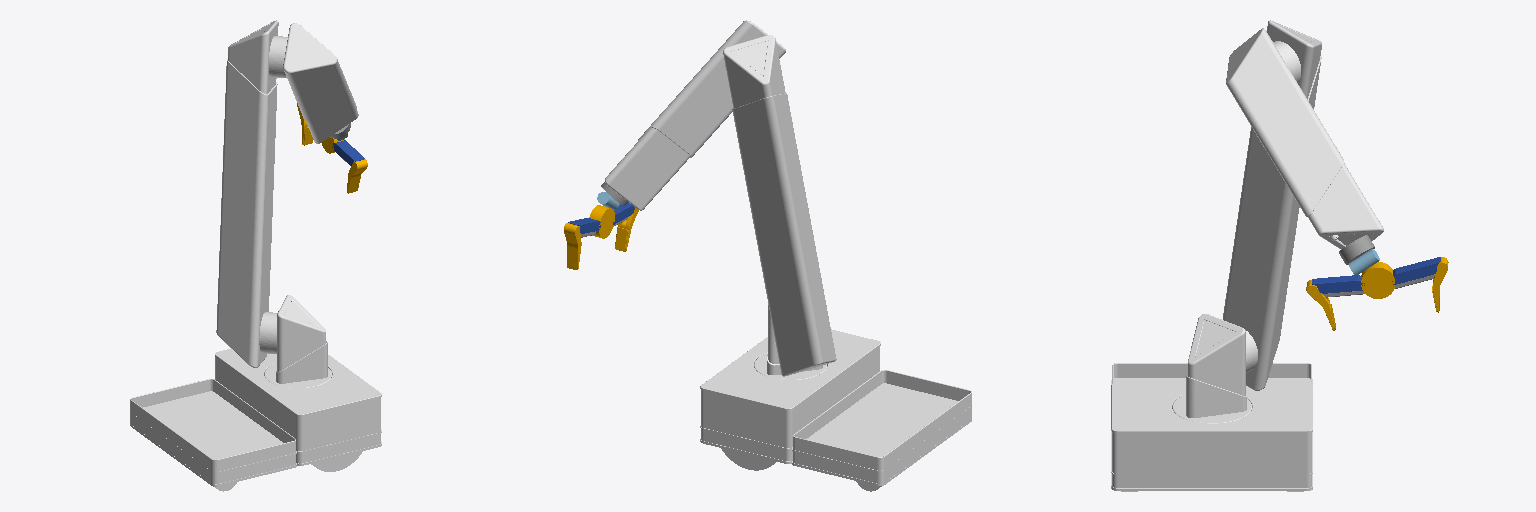
The robot description file, URDF, robot "onshape":
<robot name="onshape">
<link name="base_link">
<visual>
<origin xyz="0.095249999999999779288 0 -0.078012499999999984635" rpy="0 -0 1.570796326794896558" />
<geometry>
<mesh filename="base_link.stl"/>
</geometry>
<material name="base_link_material">
<color rgba="0.91764705882352937127 0.91764705882352937127 0.91764705882352937127 1.0"/>
</material>
</visual>
<collision>
<origin xyz="0.095249999999999779288 0 -0.078012499999999984635" rpy="0 -0 1.570796326794896558" />
<geometry>
<mesh filename="base_link.stl"/>
</geometry>
</collision>
<inertial>
<origin xyz="0.013314708714456002792 3.1309679248954579317e-13 -0.0038053294722519698245" rpy="0 0 0"/>
<mass value="99.999999999999985789" />
<inertia ixx="1.4279469683676146996" ixy="4.9898870129514783975e-12"  ixz="-0.19411269803900826902" iyy="1.6492465472325075204" iyz="-5.6218946315406817249e-13" izz="2.7361394480200238455" />
</inertial>
</link>

<link name="wheel">
<visual>
<origin xyz="0.0049999999999999766853 -0.075000000000000011102 0.12999999999999994893" rpy="-1.570796326794896558 -1.570796326794896558 0" />
<geometry>
<mesh filename="wheel.stl"/>
</geometry>
<material name="wheel_material">
<color rgba="0.91764705882352937127 0.91764705882352937127 0.91764705882352937127 1.0"/>
</material>
</visual>
<collision>
<origin xyz="0.0049999999999999766853 -0.075000000000000011102 0.12999999999999994893" rpy="-1.570796326794896558 -1.570796326794896558 0" />
<geometry>
<mesh filename="wheel.stl"/>
</geometry>
</collision>
<inertial>
<origin xyz="0 0 0" rpy="0 0 0"/>
<mass value="0" />
<inertia ixx="0" ixy="0"  ixz="0" iyy="0" iyz="0" izz="0" />
</inertial>
</link>

<joint name="right_wheel" type="continuous">
<origin xyz="0.10024999999999970046 -0.12999999999999845013 -0.0030124999999999735323" rpy="1.570796326794896558 -0 3.141592653589793116" />
<parent link="base_link" />
<child link="wheel" />
<axis xyz="0 0 1"/>
<limit effort="1" velocity="20" />
<joint_properties friction="0.0"/>
</joint>

<link name="wheel_2">
<visual>
<origin xyz="0.0049999999999999905631 -0.075000000000000011102 0.12999999999999997669" rpy="-1.570796326794896558 -1.570796326794896558 0" />
<geometry>
<mesh filename="wheel.stl"/>
</geometry>
<material name="wheel_material">
<color rgba="0.91764705882352937127 0.91764705882352937127 0.91764705882352937127 1.0"/>
</material>
</visual>
<collision>
<origin xyz="0.0049999999999999905631 -0.075000000000000011102 0.12999999999999997669" rpy="-1.570796326794896558 -1.570796326794896558 0" />
<geometry>
<mesh filename="wheel.stl"/>
</geometry>
</collision>
<inertial>
<origin xyz="0 0 0" rpy="0 0 0"/>
<mass value="0" />
<inertia ixx="0" ixy="0"  ixz="0" iyy="0" iyz="0" izz="0" />
</inertial>
</link>

<joint name="left_wheel" type="continuous">
<origin xyz="0.10024999999999978373 0.12999999999999975464 -0.0030125000000000012879" rpy="-1.570796326794896558 6.7549863752366748434e-34 -3.141592653589793116" />
<parent link="base_link" />
<child link="wheel_2" />
<axis xyz="0 0 1"/>
<limit effort="1" velocity="20" />
<joint_properties friction="0.0"/>
</joint>

<link name="boom_swivel">
<visual>
<origin xyz="-1.3877787807814456755e-17 -0.0050000000000000044409 0.15099999999999996758" rpy="3.141592653589793116 4.7019774032891500319e-38 -2.6164842409694724145e-43" />
<geometry>
<mesh filename="boom_swivel.stl"/>
</geometry>
<material name="boom_swivel_material">
<color rgba="0.91764705882352937127 0.91764705882352937127 0.91764705882352937127 1.0"/>
</material>
</visual>
<collision>
<origin xyz="-1.3877787807814456755e-17 -0.0050000000000000044409 0.15099999999999996758" rpy="3.141592653589793116 4.7019774032891500319e-38 -2.6164842409694724145e-43" />
<geometry>
<mesh filename="boom_swivel.stl"/>
</geometry>
</collision>
<inertial>
<origin xyz="0 0 0" rpy="0 0 0"/>
<mass value="0" />
<inertia ixx="0" ixy="0"  ixz="0" iyy="0" iyz="0" izz="0" />
</inertial>
</link>

<link name="boom_base">
<visual>
<origin xyz="-6.2450045135165055399e-17 -0.24249999999999993783 0.0099999999999999880651" rpy="-1.570796326794896558 -6.9858016346120152205e-17 0" />
<geometry>
<mesh filename="boom_base.stl"/>
</geometry>
<material name="boom_base_material">
<color rgba="0.91764705882352937127 0.91764705882352937127 0.91764705882352937127 1.0"/>
</material>
</visual>
<collision>
<origin xyz="-6.2450045135165055399e-17 -0.24249999999999993783 0.0099999999999999880651" rpy="-1.570796326794896558 -6.9858016346120152205e-17 0" />
<geometry>
<mesh filename="boom_base.stl"/>
</geometry>
</collision>
<inertial>
<origin xyz="0 0 0" rpy="0 0 0"/>
<mass value="0" />
<inertia ixx="0" ixy="0"  ixz="0" iyy="0" iyz="0" izz="0" />
</inertial>
</link>

<link name="boom_extension">
<visual>
<origin xyz="4.1633363423443370266e-17 -0.10464101615137760826 -0.56000000000000005329" rpy="1.2940658014313495664e-17 -0 3.9137490964325204328e-18" />
<geometry>
<mesh filename="boom_extension.stl"/>
</geometry>
<material name="boom_extension_material">
<color rgba="0.91764705882352937127 0.91764705882352937127 0.91764705882352937127 1.0"/>
</material>
</visual>
<collision>
<origin xyz="4.1633363423443370266e-17 -0.10464101615137760826 -0.56000000000000005329" rpy="1.2940658014313495664e-17 -0 3.9137490964325204328e-18" />
<geometry>
<mesh filename="boom_extension.stl"/>
</geometry>
</collision>
<inertial>
<origin xyz="0 0 0" rpy="0 0 0"/>
<mass value="0" />
<inertia ixx="0" ixy="0"  ixz="0" iyy="0" iyz="0" izz="0" />
</inertial>
</link>

<link name="forearm_base">
<visual>
<origin xyz="-1.1102230246251565404e-16 -0.82750000000000001332 0.0099999999999998215316" rpy="-1.570796326794896558 3.9679031311238156827e-17 5.5511151231257839347e-17" />
<geometry>
<mesh filename="forearm_base.stl"/>
</geometry>
<material name="forearm_base_material">
<color rgba="0.91764705882352937127 0.91764705882352937127 0.91764705882352937127 1.0"/>
</material>
</visual>
<collision>
<origin xyz="-1.1102230246251565404e-16 -0.82750000000000001332 0.0099999999999998215316" rpy="-1.570796326794896558 3.9679031311238156827e-17 5.5511151231257839347e-17" />
<geometry>
<mesh filename="forearm_base.stl"/>
</geometry>
</collision>
<inertial>
<origin xyz="0 0 0" rpy="0 0 0"/>
<mass value="0" />
<inertia ixx="0" ixy="0"  ixz="0" iyy="0" iyz="0" izz="0" />
</inertial>
</link>

<link name="forearm_extension">
<visual>
<origin xyz="-1.1102230246251565404e-16 -0.0046410161513774361719 0.80918584287042061298" rpy="-3.141592653589793116 -0 -9.7796772699959003765e-17" />
<geometry>
<mesh filename="forearm_extension.stl"/>
</geometry>
<material name="forearm_extension_material">
<color rgba="0.91764705882352937127 0.91764705882352937127 0.91764705882352937127 1.0"/>
</material>
</visual>
<collision>
<origin xyz="-1.1102230246251565404e-16 -0.0046410161513774361719 0.80918584287042061298" rpy="-3.141592653589793116 -0 -9.7796772699959003765e-17" />
<geometry>
<mesh filename="forearm_extension.stl"/>
</geometry>
</collision>
<inertial>
<origin xyz="0 0 0" rpy="0 0 0"/>
<mass value="0" />
<inertia ixx="0" ixy="0"  ixz="0" iyy="0" iyz="0" izz="0" />
</inertial>
</link>

<link name="wrist_roll">
<visual>
<origin xyz="0 -0.012881970000000020349 -0.12897358088045218771" rpy="0 -0 2.7755575615628913511e-17" />
<geometry>
<mesh filename="wrist_roll.stl"/>
</geometry>
<material name="wrist_roll_material">
<color rgba="0.64705882352941179736 0.64705882352941179736 0.64705882352941179736 1.0"/>
</material>
</visual>
<collision>
<origin xyz="0 -0.012881970000000020349 -0.12897358088045218771" rpy="0 -0 2.7755575615628913511e-17" />
<geometry>
<mesh filename="wrist_roll.stl"/>
</geometry>
</collision>
<inertial>
<origin xyz="0 0 0" rpy="0 0 0"/>
<mass value="0" />
<inertia ixx="0" ixy="0"  ixz="0" iyy="0" iyz="0" izz="0" />
</inertial>
</link>

<link name="wrist_pitch">
<visual>
<origin xyz="-0.012881969999999964838 -0.091499999999999886979 5.5511151231257827021e-17" rpy="-1.570796326794896558 -1.570796326794896558 0" />
<geometry>
<mesh filename="wrist_pitch.stl"/>
</geometry>
<material name="wrist_pitch_material">
<color rgba="0.61568627450980395466 0.81176470588235294379 0.92941176470588238168 1.0"/>
</material>
</visual>
<collision>
<origin xyz="-0.012881969999999964838 -0.091499999999999886979 5.5511151231257827021e-17" rpy="-1.570796326794896558 -1.570796326794896558 0" />
<geometry>
<mesh filename="wrist_pitch.stl"/>
</geometry>
</collision>
<inertial>
<origin xyz="0 0 0" rpy="0 0 0"/>
<mass value="0" />
<inertia ixx="0" ixy="0"  ixz="0" iyy="0" iyz="0" izz="0" />
</inertial>
</link>

<link name="wrist_yaw">
<visual>
<origin xyz="5.5511151231257827021e-17 0.04899999999999998801 -0.012881969999999964838" rpy="1.570796326794896558 8.6736173798840354721e-19 0" />
<geometry>
<mesh filename="wrist_yaw.stl"/>
</geometry>
<material name="wrist_yaw_material">
<color rgba="0.98039215686274505668 0.71372549019607844922 0.0039215686274509803377 1.0"/>
</material>
</visual>
<collision>
<origin xyz="5.5511151231257827021e-17 0.04899999999999998801 -0.012881969999999964838" rpy="1.570796326794896558 8.6736173798840354721e-19 0" />
<geometry>
<mesh filename="wrist_yaw.stl"/>
</geometry>
</collision>
<inertial>
<origin xyz="0 0 0" rpy="0 0 0"/>
<mass value="0" />
<inertia ixx="0" ixy="0"  ixz="0" iyy="0" iyz="0" izz="0" />
</inertial>
</link>

<link name="outer_link">
<visual>
<origin xyz="-0.030169798817259230184 0.048999999999999932498 -0.012881967433526597677" rpy="1.570796326794896558 -6.9388939039072283776e-18 -1.1102230246251565404e-16" />
<geometry>
<mesh filename="outer_link.stl"/>
</geometry>
<material name="outer_link_material">
<color rgba="0.2313725490196078538 0.38039215686274507888 0.7058823529411765163 1.0"/>
</material>
</visual>
<collision>
<origin xyz="-0.030169798817259230184 0.048999999999999932498 -0.012881967433526597677" rpy="1.570796326794896558 -6.9388939039072283776e-18 -1.1102230246251565404e-16" />
<geometry>
<mesh filename="outer_link.stl"/>
</geometry>
</collision>
<inertial>
<origin xyz="0 0 0" rpy="0 0 0"/>
<mass value="0" />
<inertia ixx="0" ixy="0"  ixz="0" iyy="0" iyz="0" izz="0" />
</inertial>
</link>

<link name="finger">
<visual>
<origin xyz="-0.053000921136366230257 -0.034264499665207948098 -0.012881967433409136081" rpy="1.570796326794896558 8.6736173798840354721e-19 0" />
<geometry>
<mesh filename="finger.stl"/>
</geometry>
<material name="finger_material">
<color rgba="0.98039215686274505668 0.71372549019607844922 0.0039215686274509803377 1.0"/>
</material>
</visual>
<collision>
<origin xyz="-0.053000921136366230257 -0.034264499665207948098 -0.012881967433409136081" rpy="1.570796326794896558 8.6736173798840354721e-19 0" />
<geometry>
<mesh filename="finger.stl"/>
</geometry>
</collision>
<inertial>
<origin xyz="0 0 0" rpy="0 0 0"/>
<mass value="0" />
<inertia ixx="0" ixy="0"  ixz="0" iyy="0" iyz="0" izz="0" />
</inertial>
</link>

<link name="closing_grip_R3_1">
<inertial>
<origin xyz="0 0 0" rpy="0 0 0" />
<mass value="1e-9" />
<inertia ixx="0" ixy="0" ixz="0" iyy="0" iyz="0" izz="0" />
</inertial>
</link>
<joint name="closing_grip_R3_1_frame" type="fixed">
<origin xyz="-0.014444698587853799232 0.016389284560931083323 -4.3687276018999909866e-14" rpy="0 8.6736173798840354721e-19 0" />
<parent link="finger" />
<child link="closing_grip_R3_1" />
<axis xyz="0 0 0"/>
</joint>

<joint name="grip_R2_passive" type="revolute">
<origin xyz="0.022831122319107222118 0.083264499665207880597 -1.1746159600534156198e-13" rpy="-8.4654505627668018574e-16 -1.2490009027032937124e-16 1.3962634015954524802" />
<parent link="outer_link" />
<child link="finger" />
<axis xyz="0 0 1"/>
<limit effort="1" velocity="20" />
<joint_properties friction="0.0"/>
</joint>

<joint name="grip_R" type="revolute">
<origin xyz="0.030169798817258786094 -2.2759572004815709079e-15 -2.5664732561381242704e-09" rpy="3.7470027081098766999e-16 2.8310687127941334009e-15 -1.3962634015954538125" />
<parent link="wrist_yaw" />
<child link="outer_link" />
<axis xyz="0 0 1"/>
<limit effort="1" velocity="20" lower="-1.3962634015954635824" upper="0.27925268031909272759"/>
<joint_properties friction="0.0"/>
</joint>

<link name="inner_link">
<visual>
<origin xyz="-0.01572510022940537544 0.032610715439068904686 -0.012881967433365337783" rpy="1.570796326794896558 -6.9388939039072299184e-18 -5.5511151231257839347e-17" />
<geometry>
<mesh filename="inner_link.stl"/>
</geometry>
<material name="inner_link_material">
<color rgba="0.64705882352941179736 0.64705882352941179736 0.64705882352941179736 1.0"/>
</material>
</visual>
<collision>
<origin xyz="-0.01572510022940537544 0.032610715439068904686 -0.012881967433365337783" rpy="1.570796326794896558 -6.9388939039072299184e-18 -5.5511151231257839347e-17" />
<geometry>
<mesh filename="inner_link.stl"/>
</geometry>
</collision>
<inertial>
<origin xyz="0 0 0" rpy="0 0 0"/>
<mass value="0" />
<inertia ixx="0" ixy="0"  ixz="0" iyy="0" iyz="0" izz="0" />
</inertial>
</link>

<link name="closing_grip_R3_2">
<inertial>
<origin xyz="0 0 0" rpy="0 0 0" />
<mass value="1e-9" />
<inertia ixx="0" ixy="0" ixz="0" iyy="0" iyz="0" izz="0" />
</inertial>
</link>
<joint name="closing_grip_R3_2_frame" type="fixed">
<origin xyz="0.022831122319107000074 0.083264499665207991619 5.5511151231257827021e-17" rpy="-1.7347234759768070944e-18 -6.9388939039072299184e-18 -5.5511151231257839347e-17" />
<parent link="inner_link" />
<child link="closing_grip_R3_2" />
<axis xyz="0 0 0"/>
</joint>

<joint name="grip_R1_passive" type="revolute">
<origin xyz="0.015725100229405708507 0.016389284560931083323 -2.5666346270547535369e-09" rpy="5.8980598183211194691e-16 1.8318679906315075028e-15 -1.3962634015954866751" />
<parent link="wrist_yaw" />
<child link="inner_link" />
<axis xyz="0 0 1"/>
<limit effort="1" velocity="20" />
<joint_properties friction="0.0"/>
</joint>

<link name="outer_link_2">
<visual>
<origin xyz="-0.030169798817259119161 0.048999999999999932498 -0.012881967433526597677" rpy="1.570796326794896558 -6.9388939039072299184e-18 -1.7347234759768074796e-18" />
<geometry>
<mesh filename="outer_link.stl"/>
</geometry>
<material name="outer_link_material">
<color rgba="0.2313725490196078538 0.38039215686274507888 0.7058823529411765163 1.0"/>
</material>
</visual>
<collision>
<origin xyz="-0.030169798817259119161 0.048999999999999932498 -0.012881967433526597677" rpy="1.570796326794896558 -6.9388939039072299184e-18 -1.7347234759768074796e-18" />
<geometry>
<mesh filename="outer_link.stl"/>
</geometry>
</collision>
<inertial>
<origin xyz="0 0 0" rpy="0 0 0"/>
<mass value="0" />
<inertia ixx="0" ixy="0"  ixz="0" iyy="0" iyz="0" izz="0" />
</inertial>
</link>

<link name="finger_2">
<visual>
<origin xyz="-0.053000921136366119235 -0.034264499665208003609 -0.012881967433409136081" rpy="1.570796326794896558 -0 2.7755575615628919674e-17" />
<geometry>
<mesh filename="finger.stl"/>
</geometry>
<material name="finger_material">
<color rgba="0.98039215686274505668 0.71372549019607844922 0.0039215686274509803377 1.0"/>
</material>
</visual>
<collision>
<origin xyz="-0.053000921136366119235 -0.034264499665208003609 -0.012881967433409136081" rpy="1.570796326794896558 -0 2.7755575615628919674e-17" />
<geometry>
<mesh filename="finger.stl"/>
</geometry>
</collision>
<inertial>
<origin xyz="0 0 0" rpy="0 0 0"/>
<mass value="0" />
<inertia ixx="0" ixy="0"  ixz="0" iyy="0" iyz="0" izz="0" />
</inertial>
</link>

<link name="closing_grip_L3_1">
<inertial>
<origin xyz="0 0 0" rpy="0 0 0" />
<mass value="1e-9" />
<inertia ixx="0" ixy="0" ixz="0" iyy="0" iyz="0" izz="0" />
</inertial>
</link>
<joint name="closing_grip_L3_1_frame" type="fixed">
<origin xyz="-0.014444698587853743721 0.016389284560931083323 -4.3742787170231167693e-14" rpy="0 -0 2.7755575615628919674e-17" />
<parent link="finger_2" />
<child link="closing_grip_L3_1" />
<axis xyz="0 0 0"/>
</joint>

<joint name="grip_L2_passive" type="revolute">
<origin xyz="0.022831122319107111096 0.083264499665207880597 -1.1762812945903533546e-13" rpy="1.2642664692918989037e-14 1.1812599509663692412e-14 1.3962634014234529545" />
<parent link="outer_link_2" />
<child link="finger_2" />
<axis xyz="0 0 1"/>
<limit effort="1" velocity="20" />
<joint_properties friction="0.0"/>
</joint>

<joint name="grip_L" type="revolute">
<origin xyz="-0.03016979881725906365 -1.1102230246251565404e-16 -2.5664734781827291954e-09" rpy="3.141592653589793116 1.9775847626136038694e-15 -1.7453292519943381933" />
<parent link="wrist_yaw" />
<child link="outer_link_2" />
<axis xyz="0 0 1"/>
<limit effort="1" velocity="20" />
<joint_properties friction="0.0"/>
</joint>

<link name="inner_link_2">
<visual>
<origin xyz="-0.015725100229405430952 0.032610715439068904686 -0.012881967433365393294" rpy="1.570796326794896558 -0 0" />
<geometry>
<mesh filename="inner_link.stl"/>
</geometry>
<material name="inner_link_material">
<color rgba="0.64705882352941179736 0.64705882352941179736 0.64705882352941179736 1.0"/>
</material>
</visual>
<collision>
<origin xyz="-0.015725100229405430952 0.032610715439068904686 -0.012881967433365393294" rpy="1.570796326794896558 -0 0" />
<geometry>
<mesh filename="inner_link.stl"/>
</geometry>
</collision>
<inertial>
<origin xyz="0 0 0" rpy="0 0 0"/>
<mass value="0" />
<inertia ixx="0" ixy="0"  ixz="0" iyy="0" iyz="0" izz="0" />
</inertial>
</link>

<link name="closing_grip_L3_2">
<inertial>
<origin xyz="0 0 0" rpy="0 0 0" />
<mass value="1e-9" />
<inertia ixx="0" ixy="0" ixz="0" iyy="0" iyz="0" izz="0" />
</inertial>
</link>
<joint name="closing_grip_L3_2_frame" type="fixed">
<origin xyz="0.022831122319107000074 0.083264499665207991619 -5.5511151231257827021e-17" rpy="3.252606517456513302e-19 -0 0" />
<parent link="inner_link_2" />
<child link="closing_grip_L3_2" />
<axis xyz="0 0 0"/>
</joint>

<joint name="grip_L1" type="revolute">
<origin xyz="-0.015725100229405208907 0.016389284560930750256 -2.566635515233173237e-09" rpy="3.1415926535897926719 1.3461454173580210407e-15 -1.7453292521289851535" />
<parent link="wrist_yaw" />
<child link="inner_link_2" />
<axis xyz="0 0 1"/>
<limit effort="1" velocity="20" />
<joint_properties friction="0.0"/>
</joint>

<joint name="wrist_yaw" type="revolute">
<origin xyz="-2.7755575615628913511e-16 -0.042499999999999926725 2.2204460492503130808e-16" rpy="1.57079632679489678 -1.147343505629052185 1.5707963267948978903" />
<parent link="wrist_pitch" />
<child link="wrist_yaw" />
<axis xyz="0 0 1"/>
<limit effort="1" velocity="20" lower="-1.570796326794896558" upper="1.570796326794896558"/>
<joint_properties friction="0.0"/>
</joint>

<joint name="wrist_pitch" type="revolute">
<origin xyz="5.5511151231257827021e-17 -4.9960036108132044319e-16 -0.037473580880452536657" rpy="1.57079632679489678 0.45468064465315399802 1.5707963267948927832" />
<parent link="wrist_roll" />
<child link="wrist_pitch" />
<axis xyz="0 0 1"/>
<limit effort="1" velocity="20" lower="-1.570796326794896558" upper="1.570796326794896558"/>
<joint_properties friction="0.0"/>
</joint>

<joint name="wrist_roll" type="revolute">
<origin xyz="4.4408920985006261617e-16 0.0033589838486223211333 0.308685842870420446" rpy="-3.1415926535897908956 -1.7208456881689946098e-15 2.5444478464251618632" />
<parent link="forearm_extension" />
<child link="wrist_roll" />
<axis xyz="0 0 1"/>
<limit effort="1" velocity="20" lower="-3.4906585039886590671" upper="3.4906585039886590671"/>
<joint_properties friction="0.0"/>
</joint>

<joint name="forearm_extension" type="prismatic">
<origin xyz="-2.2204460492503130808e-16 -0.032282739631982138029 0.014641016151377479748" rpy="1.5707963267948976682 -4.0441017853883299506e-16 -1.1102230246251136461e-16" />
<parent link="forearm_base" />
<child link="forearm_extension" />
<axis xyz="0 0 1"/>
<limit effort="1" velocity="20" lower="0" upper="0.4500000000000000111"/>
<joint_properties friction="0.0"/>
</joint>

<joint name="shoulder_tilt" type="revolute">
<origin xyz="7.6327832942979512154e-17 -0.09464101615137787693 0.26750000000000012657" rpy="1.570796326794896558 -0.93844231071661821098 -3.9894166014595739841e-15" />
<parent link="boom_extension" />
<child link="forearm_base" />
<axis xyz="0 0 1"/>
<limit effort="1" velocity="20" lower="-3.4906585039886590671" upper="3.4906585039886590671"/>
<joint_properties friction="0.0"/>
</joint>

<joint name="boom_extension" type="prismatic">
<origin xyz="-9.7144514654701197287e-17 0.32026249715996701894 -0.094641016151377599375" rpy="-1.5707963267948947816 7.4241473998733478155e-15 1.2545520178263697771e-14" />
<parent link="boom_base" />
<child link="boom_extension" />
<axis xyz="0 0 1"/>
<limit effort="1" velocity="20" lower="0" upper="0.5999999999999999778"/>
<joint_properties friction="0.0"/>
</joint>

<joint name="boom_tilt" type="revolute">
<origin xyz="6.9388939039072283776e-17 -0.0150000000000000272 -0.091500000000000136779" rpy="-1.570796326794896558 -0.17063727141305259916 1.4645602499805597384e-15" />
<parent link="boom_swivel" />
<child link="boom_base" />
<axis xyz="0 0 1"/>
<limit effort="1" velocity="20" lower="-1.570796326794896558" upper="1.570796326794896558"/>
<joint_properties friction="0.0"/>
</joint>

<joint name="boom_swivel" type="revolute">
<origin xyz="0.10024999999999975597 -2.3852447794681097548e-17 0.072987500000000010703" rpy="-3.141592653589793116 -3.0468562913685551623e-22 0.8309134173124669287" />
<parent link="base_link" />
<child link="boom_swivel" />
<axis xyz="0 0 1"/>
<limit effort="1" velocity="20" lower="-4.712388980384689674" upper="4.712388980384689674"/>
<joint_properties friction="0.0"/>
</joint>


</robot>

--- What the picture shows (computed from the rendered views, not written in the file) ---
3 views of the same robot in one strip: view 1: azimuth 30°, elevation 25°; view 2: azimuth 150°, elevation 25°; view 3: azimuth 270°, elevation 25° (orthographic).
Robot: onshape — 21 links, 20 joints (12 revolute, 2 continuous, 2 prismatic, 4 fixed); root link base_link; default pose: all joints at 0.
Visible links, largest first — view 1: base_link, boom_base, forearm_base, boom_swivel, boom_extension, forearm_extension; view 2: base_link, boom_base, forearm_base, forearm_extension, boom_extension, boom_swivel, finger_2, wheel_2, wrist_yaw; view 3: base_link, boom_base, forearm_base, boom_swivel, forearm_extension, boom_extension, wrist_yaw, outer_link, outer_link_2, wrist_roll.
Boxes of the visible links, x1,y1,x2,y2 form: base_link: (130, 349, 381, 491); boom_base: (216, 59, 277, 367); forearm_base: (283, 23, 356, 121); boom_swivel: (264, 295, 331, 387); boom_extension: (228, 20, 287, 93); forearm_extension: (306, 111, 358, 143); base_link: (700, 329, 971, 491); boom_base: (732, 93, 836, 376); forearm_base: (638, 20, 785, 157); forearm_extension: (605, 128, 690, 210); boom_extension: (723, 35, 785, 108); boom_swivel: (754, 305, 826, 379); finger_2: (564, 223, 581, 269); wheel_2: (721, 448, 775, 470); wrist_yaw: (589, 205, 614, 238); base_link: (1111, 363, 1312, 490); boom_base: (1223, 56, 1321, 390); forearm_base: (1226, 28, 1343, 216); boom_swivel: (1172, 314, 1251, 423); forearm_extension: (1308, 163, 1383, 249); boom_extension: (1267, 20, 1321, 98); wrist_yaw: (1361, 262, 1394, 298); outer_link: (1312, 275, 1364, 293); outer_link_2: (1392, 257, 1440, 284); wrist_roll: (1339, 235, 1374, 264).
Size in the robot's own frame: 0.5691 by 0.5891 by 0.9033 metres.
Meshes: 13 distinct files referenced, 17 mesh visuals loaded (13 binary STL).